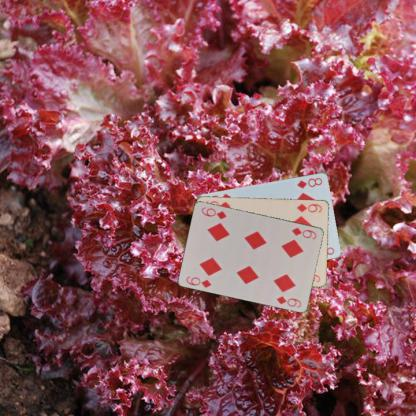6d: (184, 273, 212, 289), (289, 225, 318, 240), (294, 201, 324, 213)
8d: (294, 174, 324, 190)
